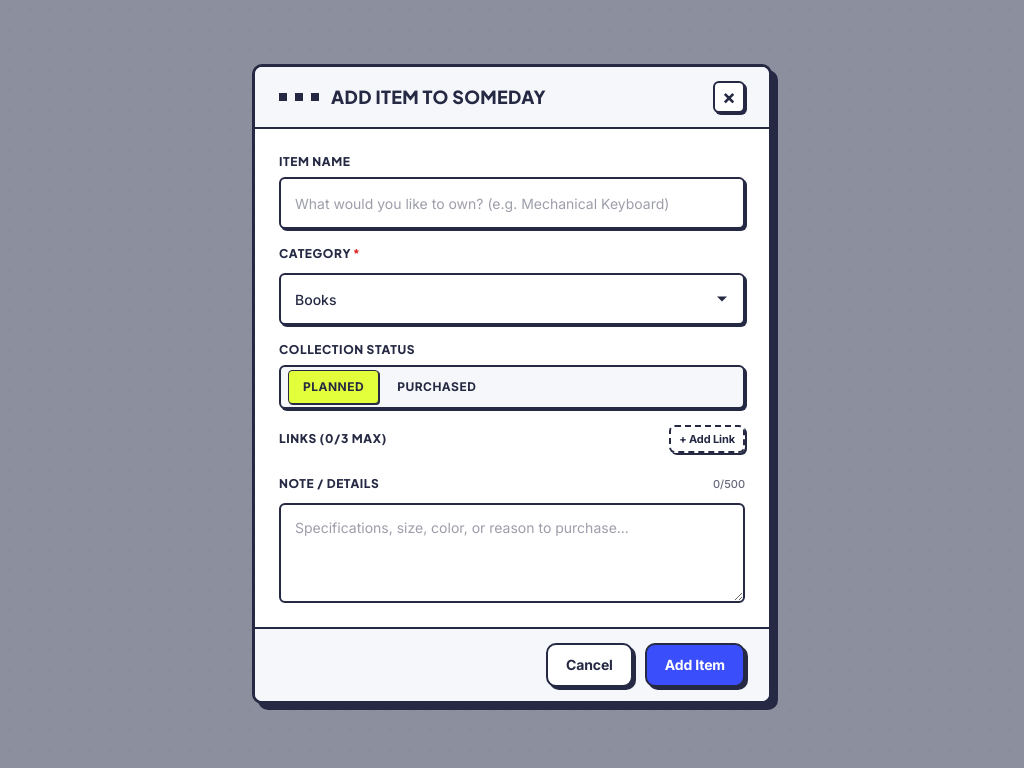
Test: ItemFormModal Component › validates empty name on submission
The image size is (1024, 768).
What coordinates should you click on to do the following:
click the button "Add Item"
I would click on:
 (695, 665)
Its box is [645, 643, 745, 687].
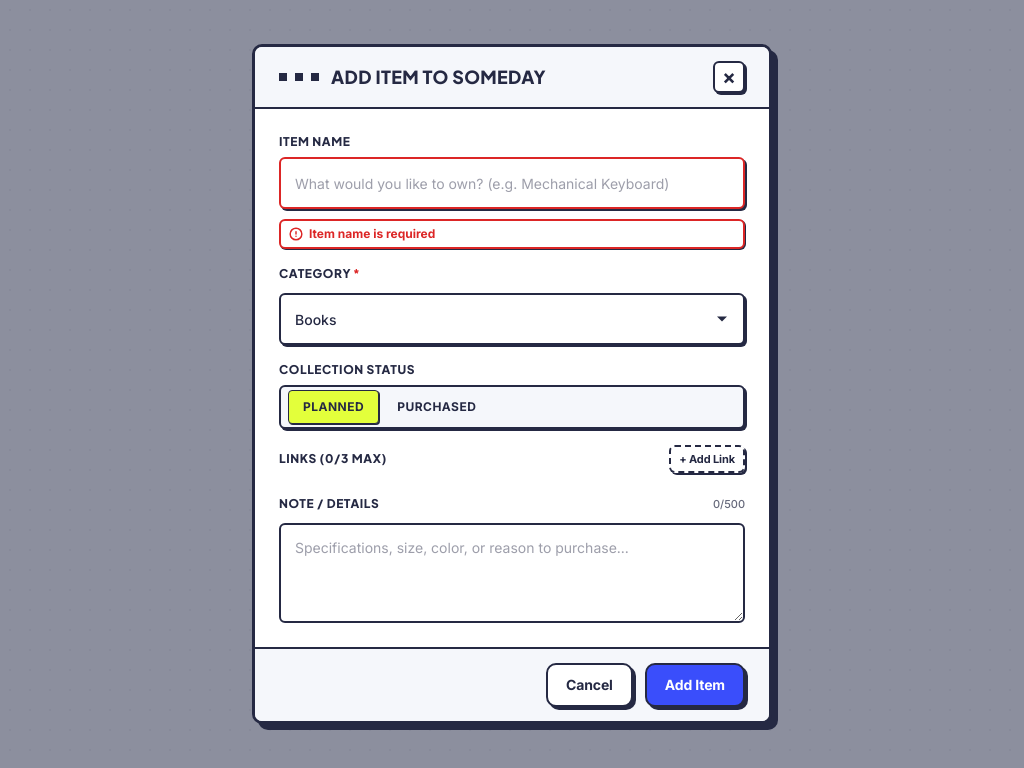
Expected: the text "Item name is required" is shown, [309, 225, 435, 243]
